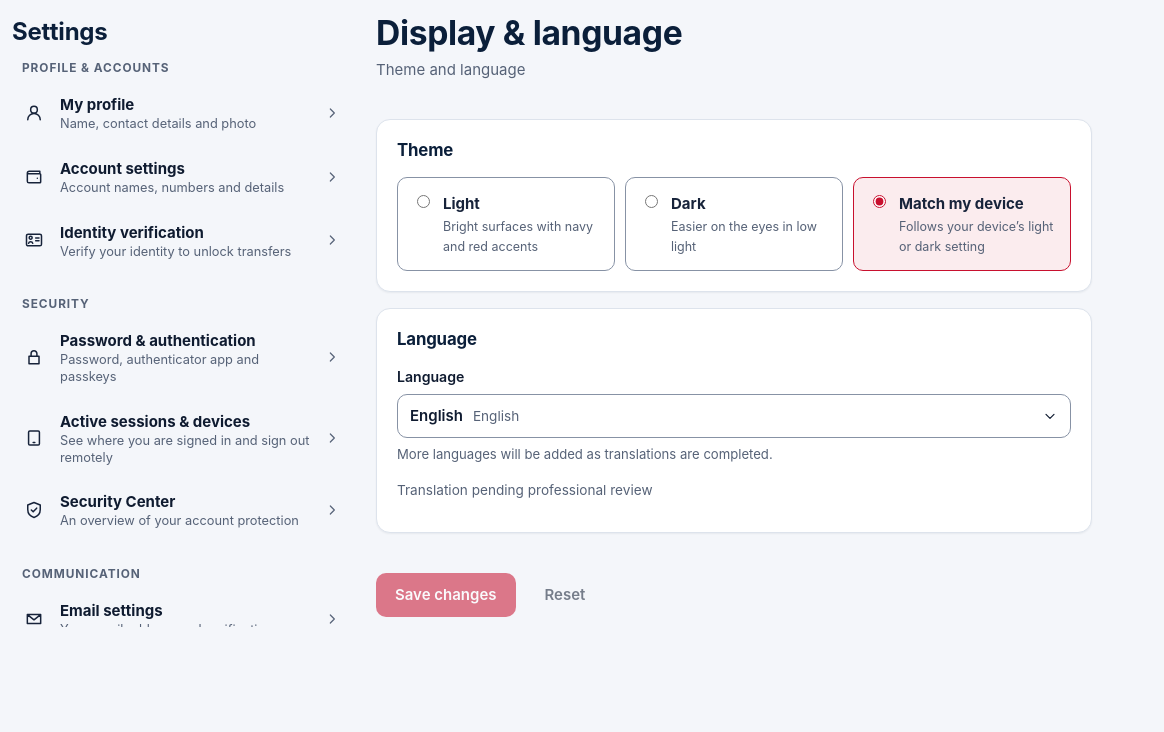
Test: settings hub › offers a searchable language selector listing only languages that have a catalog
The width and height of the screenshot is (1164, 732).
Step 1. Click the button with aria-label "Language" → click(436, 416), box left=397, top=394, right=1071, bottom=438
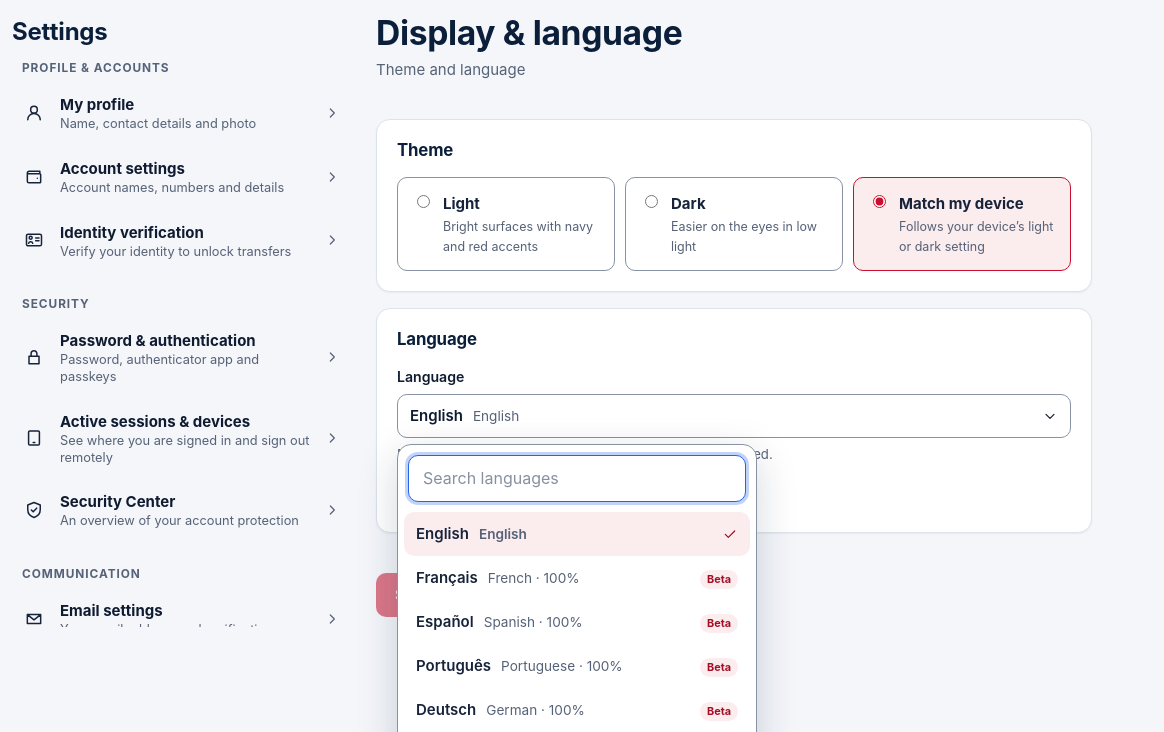
Step 2. Type "fran" into the dropdown → (577, 478), box left=408, top=455, right=746, bottom=502
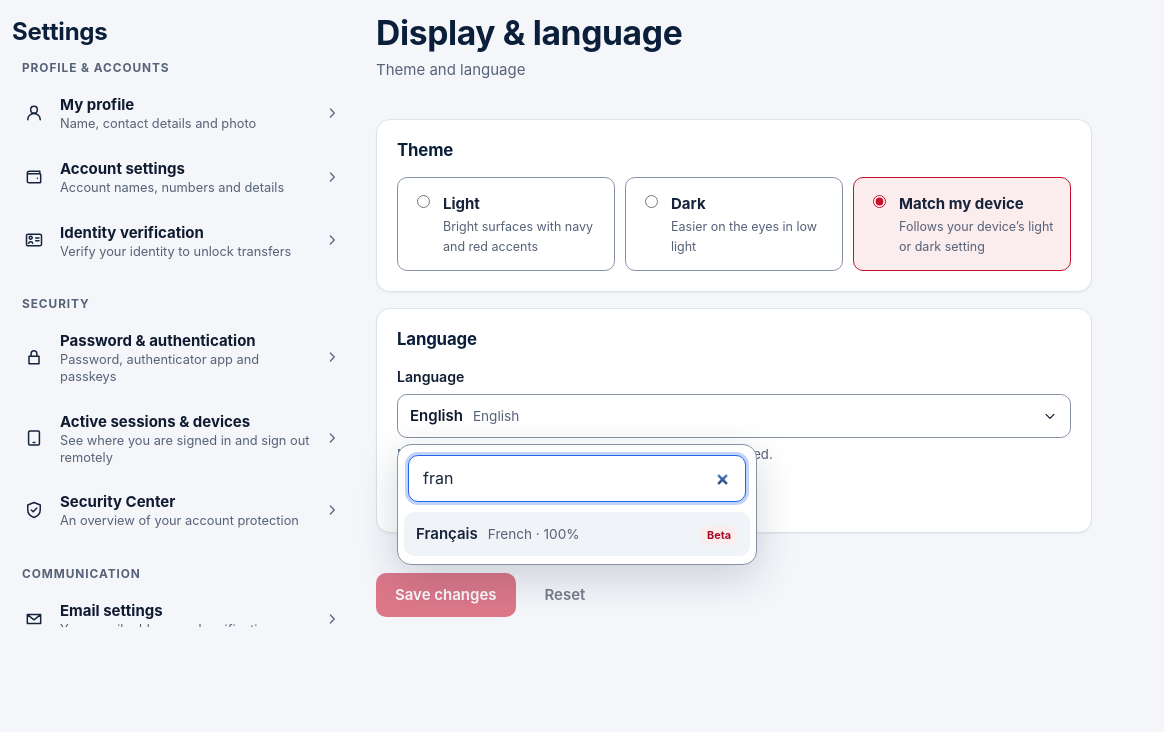
Step 3. Replace the text in the dropdown with "العربية" → (577, 478), box left=408, top=455, right=746, bottom=502
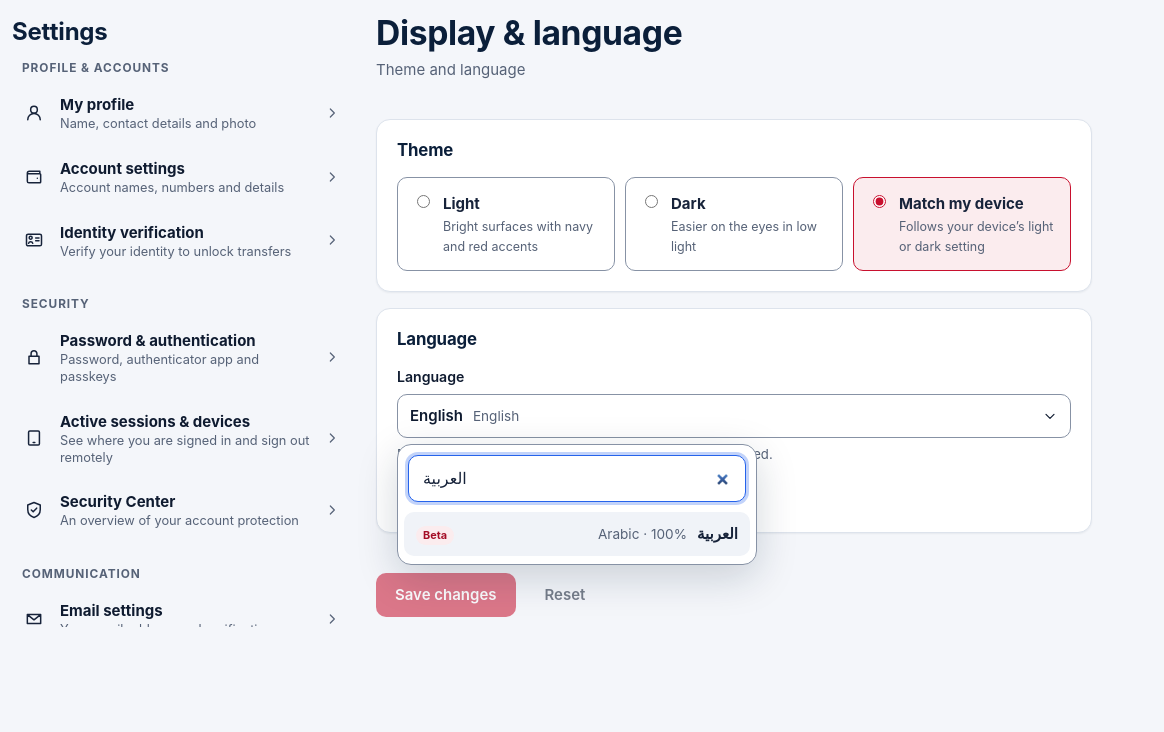
Step 4. Replace the text in the dropdown with "zzzz" → (577, 478), box left=408, top=455, right=746, bottom=502
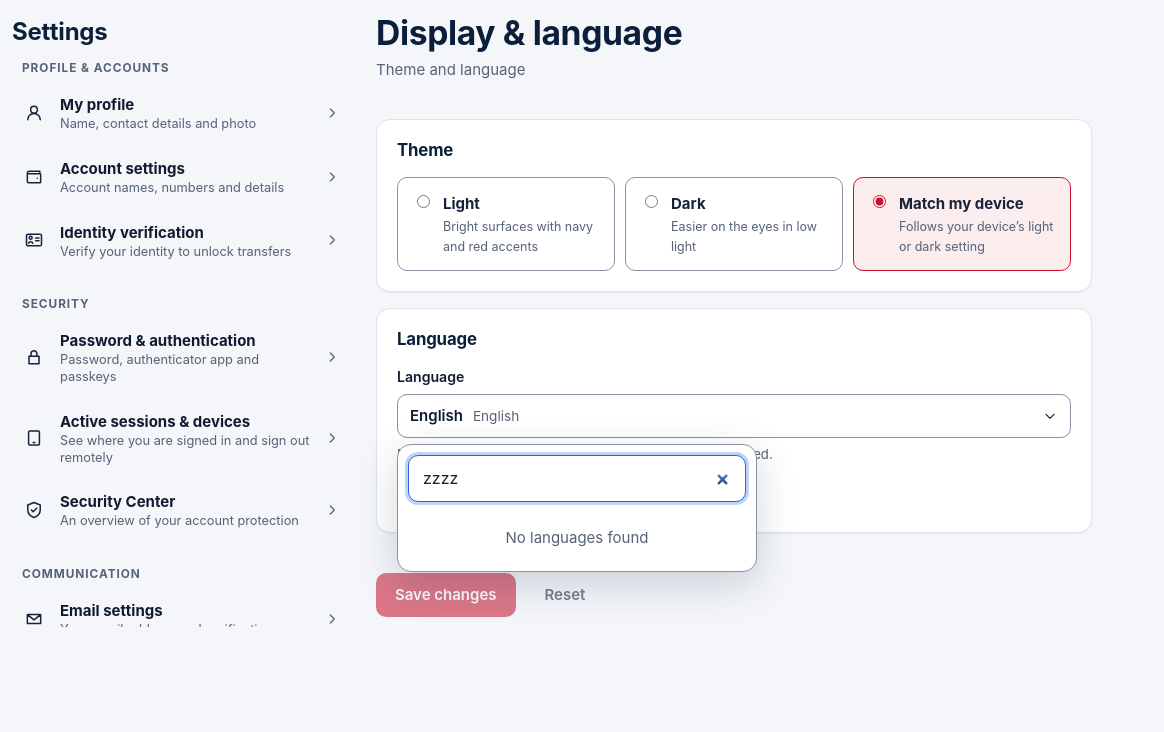
Check: no options are shown
Check: the list item "No languages found" is shown, box left=506, top=528, right=648, bottom=547
